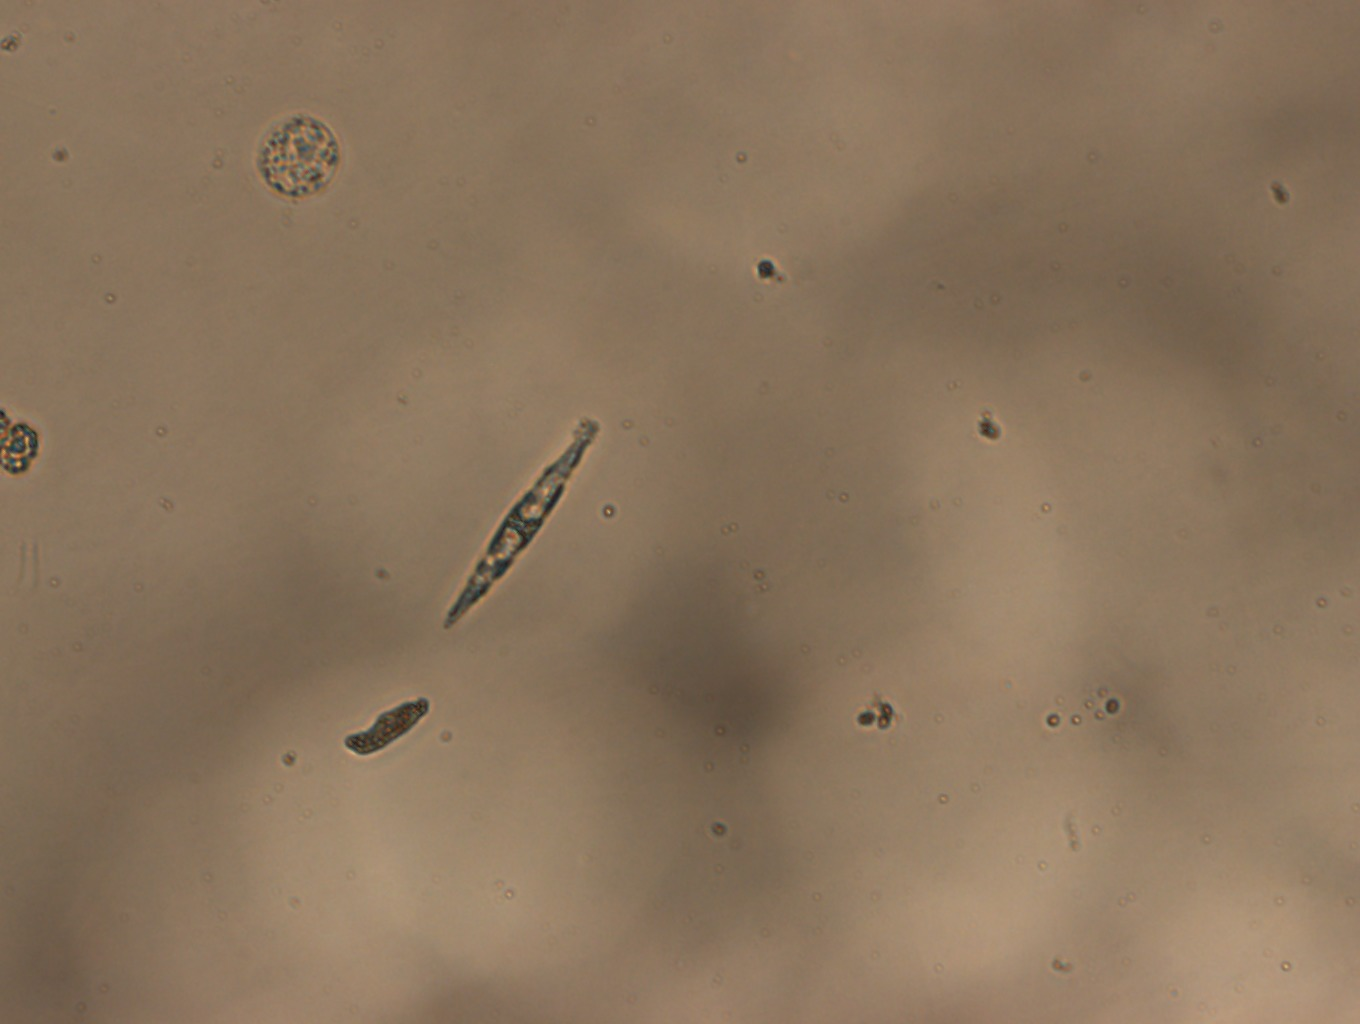navicula: (443, 426, 595, 628)
